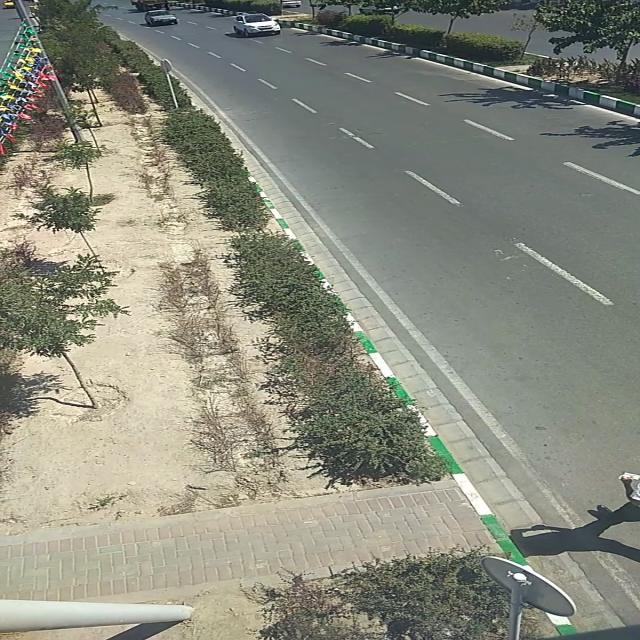car: (232, 15, 278, 37), (143, 11, 178, 25)
